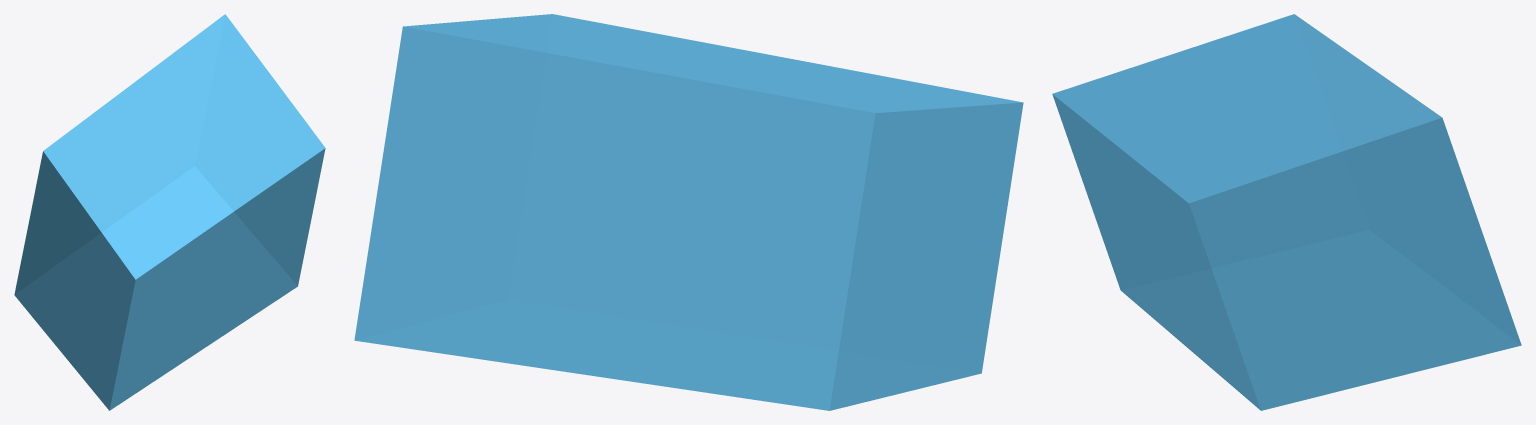
The model's file is Event_421127236_HErechit_34.fbx.
3 views of the same model, side by side, from view 1: azimuth 30°, elevation 25°; view 2: azimuth 150°, elevation 25°; view 3: azimuth 270°, elevation 25° (orthographic). The views are drawn at different scales.
Parts seen in each view (by area): view 1: Model; view 2: Model; view 3: Model.
Boxes of the visible parts, box(x1,y1,x2,y2) form: Model: box(14, 14, 325, 410); Model: box(354, 14, 1023, 410); Model: box(1052, 14, 1521, 410).
Bounding box in the file's own units: 0.6182 × 0.6064 × 0.7932.
